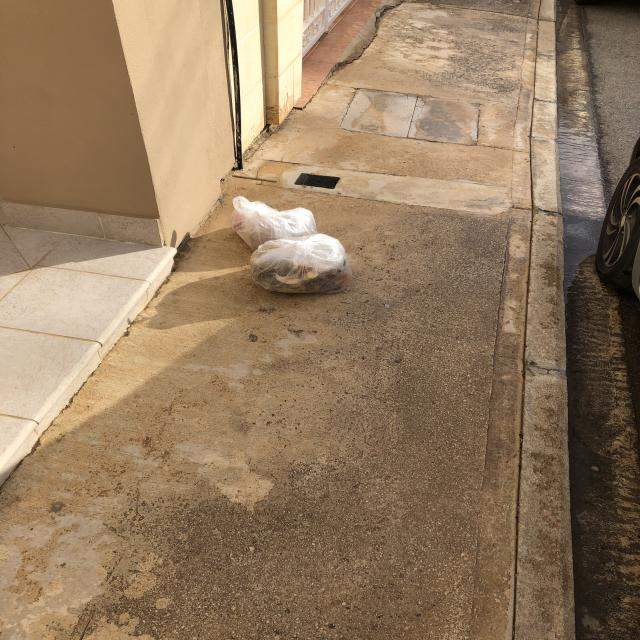Organic Waste -White Bag-: (249, 237, 363, 307), (232, 198, 317, 250)
